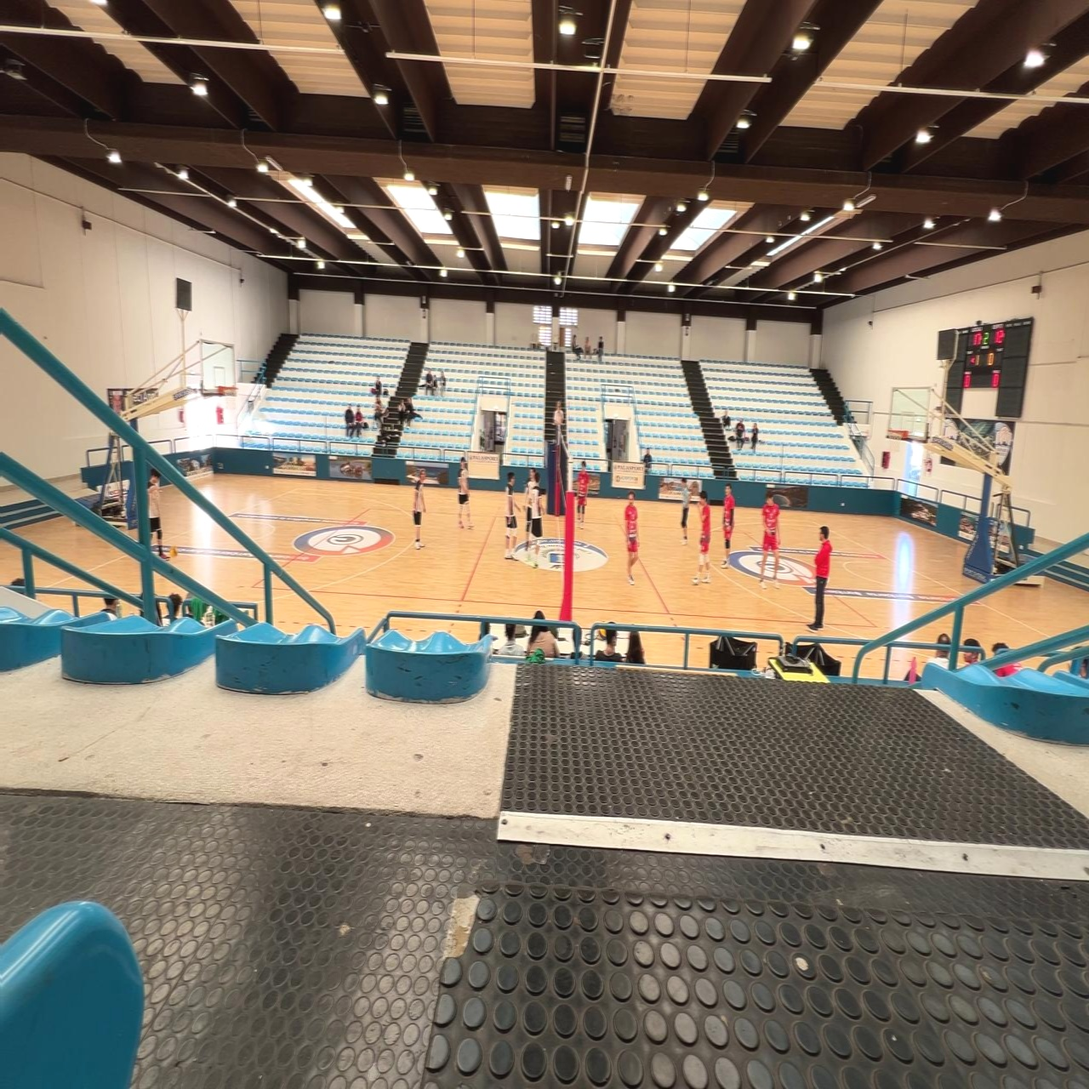ball: (168, 545, 177, 559)
